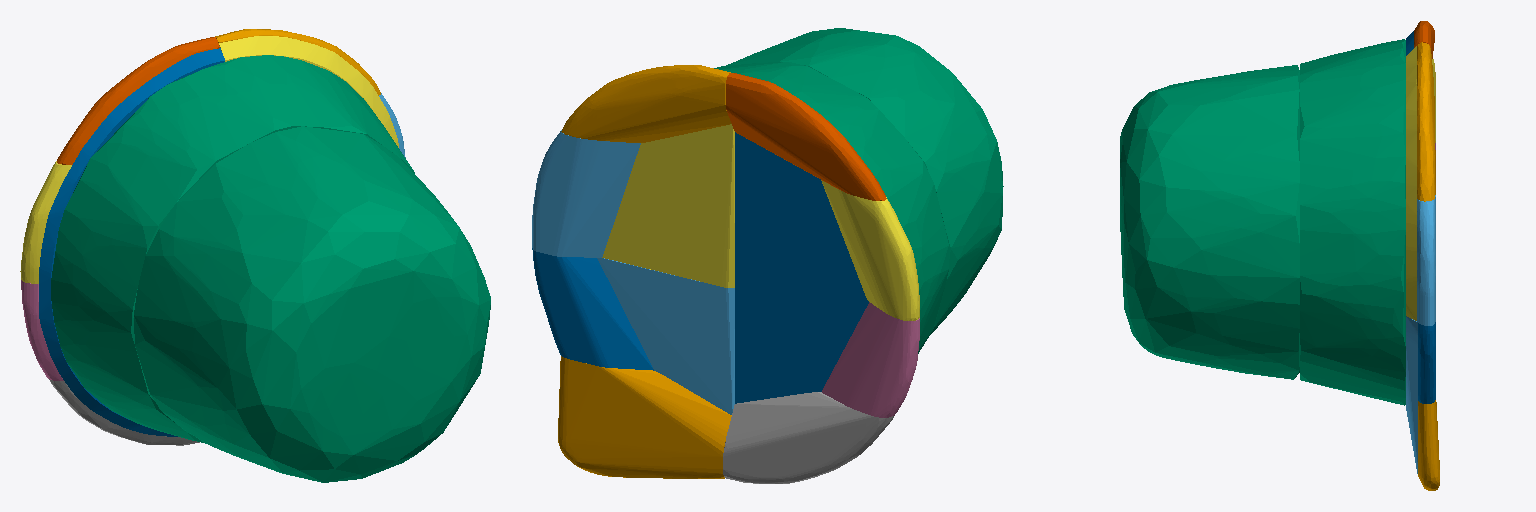
robot.urdf — root:
<robot name="root">
  <link name="link_convex_piece_012.obj">
    <inertial>
      <origin xyz="0 0 0" rpy="0 0 0"/>
    </inertial>
    <visual>
      <origin xyz="0 0 0" rpy="0 0 0"/>
      <geometry>
        <mesh filename="meshes/convex_piece_012.obj" scale="1.0 1.0 1.0"/>
      </geometry>
    </visual>
    <collision>
      <origin xyz="0 0 0" rpy="0 0 0"/>
      <geometry>
        <mesh filename="meshes/convex_piece_012.obj" scale="1.0 1.0 1.0"/>
      </geometry>
    </collision>
  </link>
  <link name="link_convex_piece_004.obj">
    <inertial>
      <origin xyz="0 0 0" rpy="0 0 0"/>
    </inertial>
    <visual>
      <origin xyz="0 0 0" rpy="0 0 0"/>
      <geometry>
        <mesh filename="meshes/convex_piece_004.obj" scale="1.0 1.0 1.0"/>
      </geometry>
    </visual>
    <collision>
      <origin xyz="0 0 0" rpy="0 0 0"/>
      <geometry>
        <mesh filename="meshes/convex_piece_004.obj" scale="1.0 1.0 1.0"/>
      </geometry>
    </collision>
  </link>
  <joint name="link_convex_piece_004.obj_joint" type="fixed">
    <origin xyz="0 0 0" rpy="0 0 0"/>
    <parent link="link_convex_piece_012.obj"/>
    <child link="link_convex_piece_004.obj"/>
  </joint>
  <link name="link_convex_piece_001.obj">
    <inertial>
      <origin xyz="0 0 0" rpy="0 0 0"/>
    </inertial>
    <visual>
      <origin xyz="0 0 0" rpy="0 0 0"/>
      <geometry>
        <mesh filename="meshes/convex_piece_001.obj" scale="1.0 1.0 1.0"/>
      </geometry>
    </visual>
    <collision>
      <origin xyz="0 0 0" rpy="0 0 0"/>
      <geometry>
        <mesh filename="meshes/convex_piece_001.obj" scale="1.0 1.0 1.0"/>
      </geometry>
    </collision>
  </link>
  <joint name="link_convex_piece_001.obj_joint" type="fixed">
    <origin xyz="0 0 0" rpy="0 0 0"/>
    <parent link="link_convex_piece_004.obj"/>
    <child link="link_convex_piece_001.obj"/>
  </joint>
  <link name="link_convex_piece_005.obj">
    <inertial>
      <origin xyz="0 0 0" rpy="0 0 0"/>
    </inertial>
    <visual>
      <origin xyz="0 0 0" rpy="0 0 0"/>
      <geometry>
        <mesh filename="meshes/convex_piece_005.obj" scale="1.0 1.0 1.0"/>
      </geometry>
    </visual>
    <collision>
      <origin xyz="0 0 0" rpy="0 0 0"/>
      <geometry>
        <mesh filename="meshes/convex_piece_005.obj" scale="1.0 1.0 1.0"/>
      </geometry>
    </collision>
  </link>
  <joint name="link_convex_piece_005.obj_joint" type="fixed">
    <origin xyz="0 0 0" rpy="0 0 0"/>
    <parent link="link_convex_piece_001.obj"/>
    <child link="link_convex_piece_005.obj"/>
  </joint>
  <link name="link_convex_piece_002.obj">
    <inertial>
      <origin xyz="0 0 0" rpy="0 0 0"/>
    </inertial>
    <visual>
      <origin xyz="0 0 0" rpy="0 0 0"/>
      <geometry>
        <mesh filename="meshes/convex_piece_002.obj" scale="1.0 1.0 1.0"/>
      </geometry>
    </visual>
    <collision>
      <origin xyz="0 0 0" rpy="0 0 0"/>
      <geometry>
        <mesh filename="meshes/convex_piece_002.obj" scale="1.0 1.0 1.0"/>
      </geometry>
    </collision>
  </link>
  <joint name="link_convex_piece_002.obj_joint" type="fixed">
    <origin xyz="0 0 0" rpy="0 0 0"/>
    <parent link="link_convex_piece_005.obj"/>
    <child link="link_convex_piece_002.obj"/>
  </joint>
  <link name="link_convex_piece_010.obj">
    <inertial>
      <origin xyz="0 0 0" rpy="0 0 0"/>
    </inertial>
    <visual>
      <origin xyz="0 0 0" rpy="0 0 0"/>
      <geometry>
        <mesh filename="meshes/convex_piece_010.obj" scale="1.0 1.0 1.0"/>
      </geometry>
    </visual>
    <collision>
      <origin xyz="0 0 0" rpy="0 0 0"/>
      <geometry>
        <mesh filename="meshes/convex_piece_010.obj" scale="1.0 1.0 1.0"/>
      </geometry>
    </collision>
  </link>
  <joint name="link_convex_piece_010.obj_joint" type="fixed">
    <origin xyz="0 0 0" rpy="0 0 0"/>
    <parent link="link_convex_piece_002.obj"/>
    <child link="link_convex_piece_010.obj"/>
  </joint>
  <link name="link_convex_piece_006.obj">
    <inertial>
      <origin xyz="0 0 0" rpy="0 0 0"/>
    </inertial>
    <visual>
      <origin xyz="0 0 0" rpy="0 0 0"/>
      <geometry>
        <mesh filename="meshes/convex_piece_006.obj" scale="1.0 1.0 1.0"/>
      </geometry>
    </visual>
    <collision>
      <origin xyz="0 0 0" rpy="0 0 0"/>
      <geometry>
        <mesh filename="meshes/convex_piece_006.obj" scale="1.0 1.0 1.0"/>
      </geometry>
    </collision>
  </link>
  <joint name="link_convex_piece_006.obj_joint" type="fixed">
    <origin xyz="0 0 0" rpy="0 0 0"/>
    <parent link="link_convex_piece_010.obj"/>
    <child link="link_convex_piece_006.obj"/>
  </joint>
  <link name="link_convex_piece_003.obj">
    <inertial>
      <origin xyz="0 0 0" rpy="0 0 0"/>
    </inertial>
    <visual>
      <origin xyz="0 0 0" rpy="0 0 0"/>
      <geometry>
        <mesh filename="meshes/convex_piece_003.obj" scale="1.0 1.0 1.0"/>
      </geometry>
    </visual>
    <collision>
      <origin xyz="0 0 0" rpy="0 0 0"/>
      <geometry>
        <mesh filename="meshes/convex_piece_003.obj" scale="1.0 1.0 1.0"/>
      </geometry>
    </collision>
  </link>
  <joint name="link_convex_piece_003.obj_joint" type="fixed">
    <origin xyz="0 0 0" rpy="0 0 0"/>
    <parent link="link_convex_piece_006.obj"/>
    <child link="link_convex_piece_003.obj"/>
  </joint>
  <link name="link_convex_piece_008.obj">
    <inertial>
      <origin xyz="0 0 0" rpy="0 0 0"/>
    </inertial>
    <visual>
      <origin xyz="0 0 0" rpy="0 0 0"/>
      <geometry>
        <mesh filename="meshes/convex_piece_008.obj" scale="1.0 1.0 1.0"/>
      </geometry>
    </visual>
    <collision>
      <origin xyz="0 0 0" rpy="0 0 0"/>
      <geometry>
        <mesh filename="meshes/convex_piece_008.obj" scale="1.0 1.0 1.0"/>
      </geometry>
    </collision>
  </link>
  <joint name="link_convex_piece_008.obj_joint" type="fixed">
    <origin xyz="0 0 0" rpy="0 0 0"/>
    <parent link="link_convex_piece_003.obj"/>
    <child link="link_convex_piece_008.obj"/>
  </joint>
  <link name="link_convex_piece_011.obj">
    <inertial>
      <origin xyz="0 0 0" rpy="0 0 0"/>
    </inertial>
    <visual>
      <origin xyz="0 0 0" rpy="0 0 0"/>
      <geometry>
        <mesh filename="meshes/convex_piece_011.obj" scale="1.0 1.0 1.0"/>
      </geometry>
    </visual>
    <collision>
      <origin xyz="0 0 0" rpy="0 0 0"/>
      <geometry>
        <mesh filename="meshes/convex_piece_011.obj" scale="1.0 1.0 1.0"/>
      </geometry>
    </collision>
  </link>
  <joint name="link_convex_piece_011.obj_joint" type="fixed">
    <origin xyz="0 0 0" rpy="0 0 0"/>
    <parent link="link_convex_piece_008.obj"/>
    <child link="link_convex_piece_011.obj"/>
  </joint>
  <link name="link_convex_piece_000.obj">
    <inertial>
      <origin xyz="0 0 0" rpy="0 0 0"/>
    </inertial>
    <visual>
      <origin xyz="0 0 0" rpy="0 0 0"/>
      <geometry>
        <mesh filename="meshes/convex_piece_000.obj" scale="1.0 1.0 1.0"/>
      </geometry>
    </visual>
    <collision>
      <origin xyz="0 0 0" rpy="0 0 0"/>
      <geometry>
        <mesh filename="meshes/convex_piece_000.obj" scale="1.0 1.0 1.0"/>
      </geometry>
    </collision>
  </link>
  <joint name="link_convex_piece_000.obj_joint" type="fixed">
    <origin xyz="0 0 0" rpy="0 0 0"/>
    <parent link="link_convex_piece_011.obj"/>
    <child link="link_convex_piece_000.obj"/>
  </joint>
  <link name="link_convex_piece_009.obj">
    <inertial>
      <origin xyz="0 0 0" rpy="0 0 0"/>
    </inertial>
    <visual>
      <origin xyz="0 0 0" rpy="0 0 0"/>
      <geometry>
        <mesh filename="meshes/convex_piece_009.obj" scale="1.0 1.0 1.0"/>
      </geometry>
    </visual>
    <collision>
      <origin xyz="0 0 0" rpy="0 0 0"/>
      <geometry>
        <mesh filename="meshes/convex_piece_009.obj" scale="1.0 1.0 1.0"/>
      </geometry>
    </collision>
  </link>
  <joint name="link_convex_piece_009.obj_joint" type="fixed">
    <origin xyz="0 0 0" rpy="0 0 0"/>
    <parent link="link_convex_piece_000.obj"/>
    <child link="link_convex_piece_009.obj"/>
  </joint>
  <link name="link_convex_piece_007.obj">
    <inertial>
      <origin xyz="0 0 0" rpy="0 0 0"/>
    </inertial>
    <visual>
      <origin xyz="0 0 0" rpy="0 0 0"/>
      <geometry>
        <mesh filename="meshes/convex_piece_007.obj" scale="1.0 1.0 1.0"/>
      </geometry>
    </visual>
    <collision>
      <origin xyz="0 0 0" rpy="0 0 0"/>
      <geometry>
        <mesh filename="meshes/convex_piece_007.obj" scale="1.0 1.0 1.0"/>
      </geometry>
    </collision>
  </link>
  <joint name="link_convex_piece_007.obj_joint" type="fixed">
    <origin xyz="0 0 0" rpy="0 0 0"/>
    <parent link="link_convex_piece_009.obj"/>
    <child link="link_convex_piece_007.obj"/>
  </joint>
</robot>

--- Render facts (derived) ---
The picture shows the robot from 3 angles, left to right: view 1: azimuth 30°, elevation 25°; view 2: azimuth 150°, elevation 25°; view 3: azimuth 270°, elevation 25°; orthographic projection.
Model root with 13 links and 12 joints (12 fixed), rooted at link_convex_piece_012.obj, posed every joint at zero.
Links seen in each view (by area): view 1: link_convex_piece_000.obj, link_convex_piece_001.obj, link_convex_piece_002.obj, link_convex_piece_005.obj, link_convex_piece_010.obj, link_convex_piece_009.obj, link_convex_piece_003.obj, link_convex_piece_006.obj, link_convex_piece_008.obj; view 2: link_convex_piece_002.obj, link_convex_piece_000.obj, link_convex_piece_012.obj, link_convex_piece_005.obj, link_convex_piece_001.obj, link_convex_piece_004.obj, link_convex_piece_003.obj, link_convex_piece_011.obj, link_convex_piece_008.obj, link_convex_piece_010.obj, link_convex_piece_007.obj, link_convex_piece_006.obj (+1 smaller); view 3: link_convex_piece_000.obj, link_convex_piece_001.obj, link_convex_piece_005.obj, link_convex_piece_008.obj, link_convex_piece_011.obj, link_convex_piece_012.obj, link_convex_piece_004.obj, link_convex_piece_007.obj.
Boxes of the visible links, box(x1,y1,x2,y2) form: link_convex_piece_000.obj: box(134, 126, 490, 482); link_convex_piece_001.obj: box(51, 55, 414, 443); link_convex_piece_002.obj: box(39, 48, 224, 436); link_convex_piece_005.obj: box(219, 36, 398, 147); link_convex_piece_010.obj: box(57, 37, 219, 164); link_convex_piece_009.obj: box(20, 161, 71, 283); link_convex_piece_003.obj: box(49, 379, 199, 445); link_convex_piece_006.obj: box(21, 280, 63, 380); link_convex_piece_008.obj: box(215, 29, 380, 95); link_convex_piece_002.obj: box(735, 132, 868, 403); link_convex_piece_000.obj: box(726, 28, 1003, 337); link_convex_piece_012.obj: box(558, 356, 731, 478); link_convex_piece_005.obj: box(602, 124, 734, 287); link_convex_piece_001.obj: box(714, 62, 948, 353); link_convex_piece_004.obj: box(597, 258, 734, 414); link_convex_piece_003.obj: box(723, 392, 893, 483); link_convex_piece_011.obj: box(532, 130, 640, 257); link_convex_piece_008.obj: box(561, 65, 731, 142); link_convex_piece_010.obj: box(726, 73, 886, 200); link_convex_piece_007.obj: box(532, 248, 653, 370); link_convex_piece_006.obj: box(822, 302, 919, 417); link_convex_piece_000.obj: box(1120, 65, 1299, 379); link_convex_piece_001.obj: box(1300, 39, 1405, 405); link_convex_piece_005.obj: box(1406, 46, 1416, 320); link_convex_piece_008.obj: box(1417, 42, 1435, 201); link_convex_piece_011.obj: box(1417, 195, 1435, 325); link_convex_piece_012.obj: box(1418, 400, 1439, 490); link_convex_piece_004.obj: box(1406, 316, 1417, 473); link_convex_piece_007.obj: box(1418, 322, 1435, 403).
Size in the robot's own frame: 1.21 by 0.9662 by 1.29 metres.
Meshes: 13 distinct files referenced, 13 mesh visuals loaded (13 OBJ).
